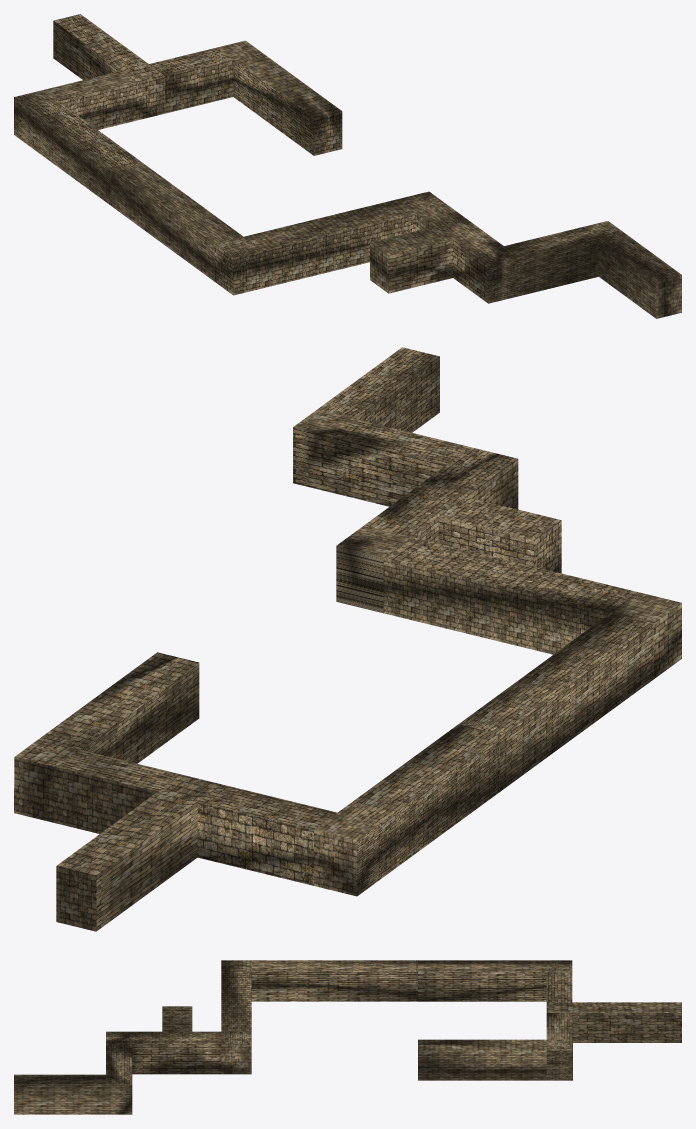
File: Location.fbx
The picture shows the model from 3 angles, top to bottom: view 1: azimuth 30°, elevation 25°; view 2: azimuth 150°, elevation 25°; view 3: azimuth 270°, elevation 25°; orthographic projection. The views are drawn at different scales.
Visible parts, largest first — view 1: Location; view 2: Location; view 3: Location.
Part boxes in pixels (x1,y1,x2,y2): Location: (14,14,681,318); Location: (14,347,681,931); Location: (14,960,681,1114).
Bounding box in the file's own units: 2972 × 336 × 6745.
